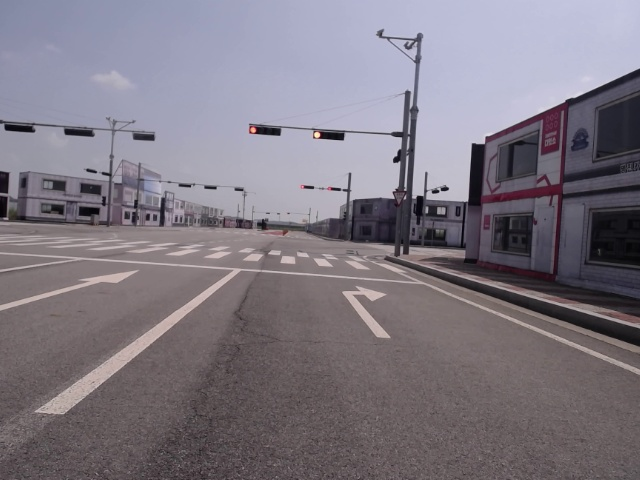red_4: (249, 125, 281, 137), (312, 130, 345, 141), (299, 185, 315, 190), (329, 186, 341, 192)
